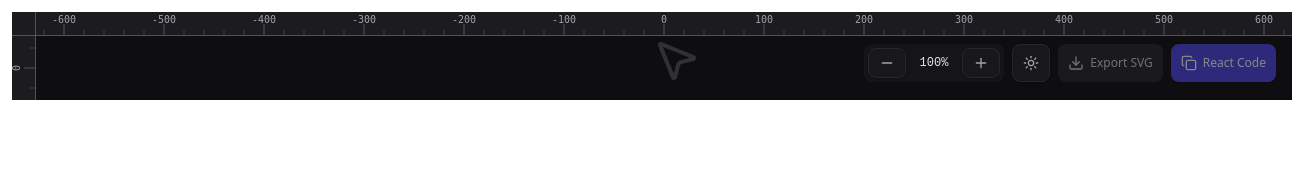
Test: Canvas › zoom controls › decreases zoom when Zoom Out is clicked
Click the button titled "Zoom Out" at coordinates (886, 63), box x1=868 y1=48 x2=906 y2=78
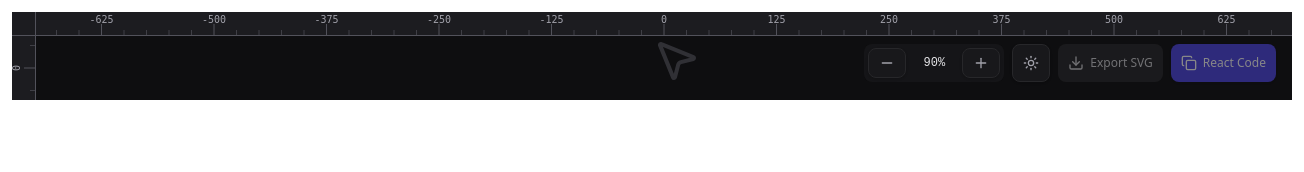
expect the button titled "Reset Zoom" reads "90%": met, box x1=910 y1=49 x2=958 y2=77
